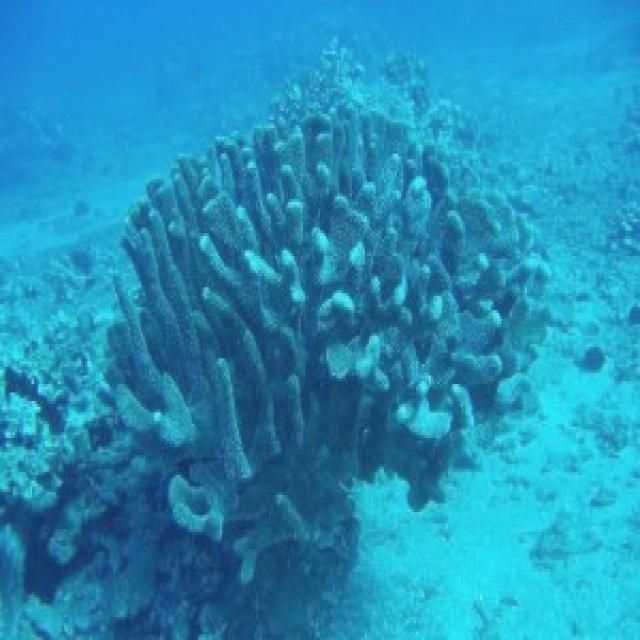Coral: (104, 100, 552, 581)
